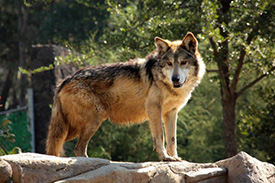Lobo: (47, 29, 204, 153)
